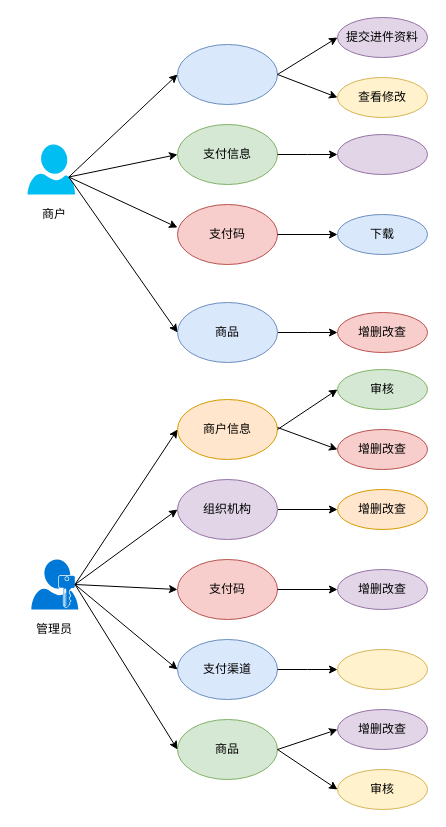
Some shapes in this 446 by 827 pixel diagram are drawn without their labels. Here are the shapes that lost their labels. From the top down, the centre of each, then its label:
At (x=227, y=74): "基本信息".
At (x=382, y=154): "查询".
At (x=382, y=669): "改查".
